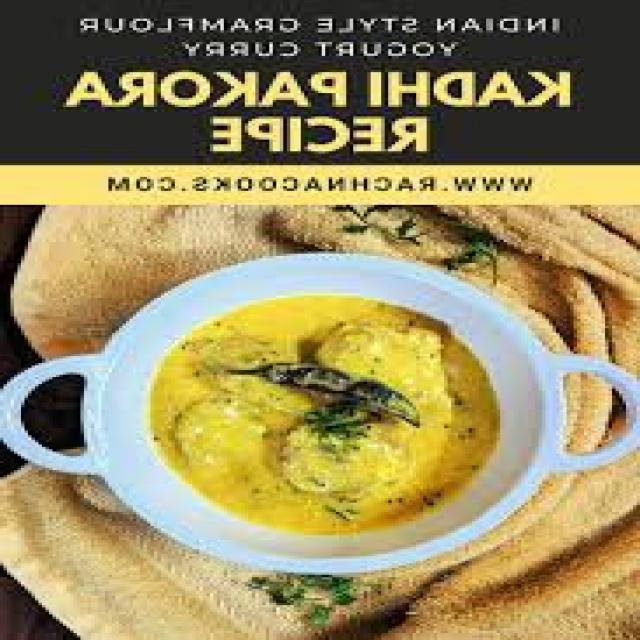Kadhi Pakora: (148, 290, 502, 535)
